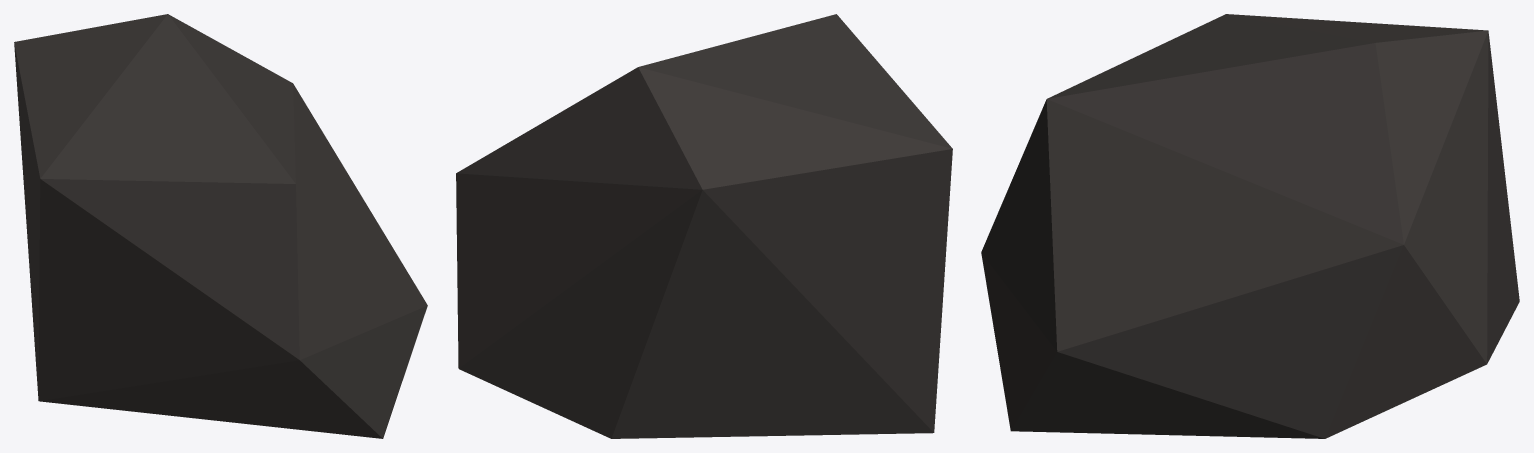
File: Rock_Single_2.fbx
3 renders of one model, left to right at view 1: azimuth 30°, elevation 25°; view 2: azimuth 150°, elevation 25°; view 3: azimuth 270°, elevation 25°, orthographic. The views are drawn at different scales.
Parts seen in each view (by area): view 1: Group47233; view 2: Group47233; view 3: Group47233.
Boxes of the visible parts, left/top/right/bottom form: Group47233: left=14, top=14, right=427, bottom=438; Group47233: left=456, top=14, right=952, bottom=438; Group47233: left=981, top=14, right=1519, bottom=438.
Bounding box in the file's own units: 0.7839 × 0.7518 × 0.9361.
